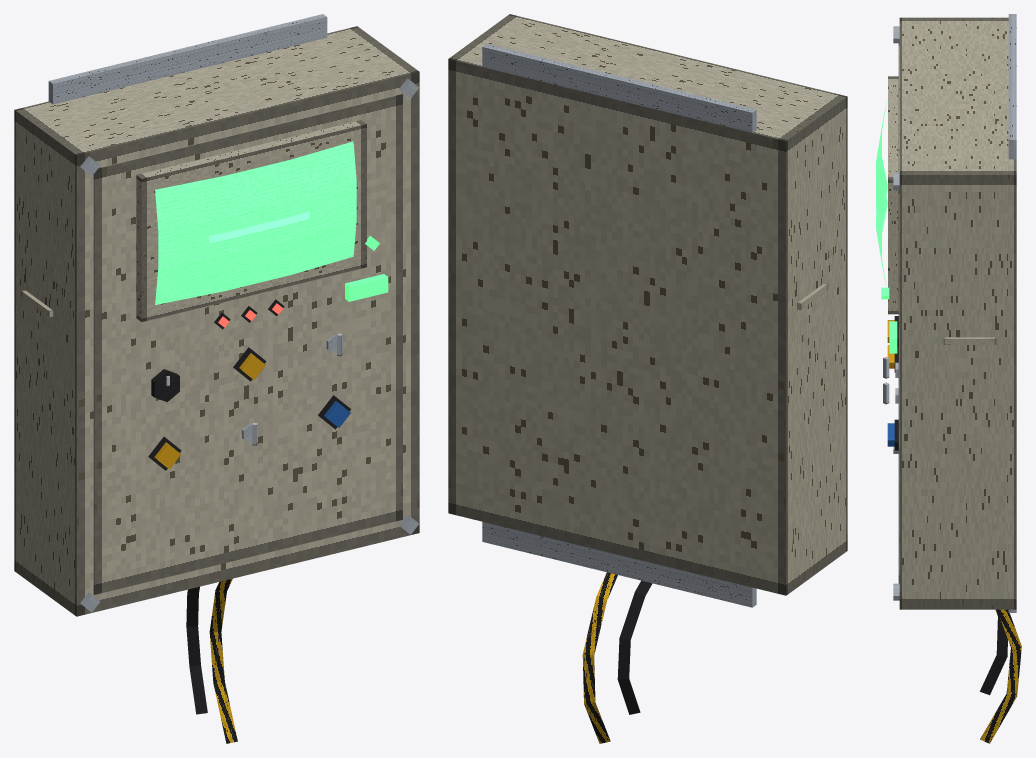
The model's file is electrical_panel_habitation_worn.glb.
3 renders of one model, left to right at view 1: azimuth 30°, elevation 25°; view 2: azimuth 150°, elevation 25°; view 3: azimuth 270°, elevation 25°, orthographic. The views are drawn at different scales.
Visible parts, largest first — view 1: electrical_panel_habitation_worn; view 2: electrical_panel_habitation_worn; view 3: electrical_panel_habitation_worn.
Part boxes in pixels (left/top/right/bottom): electrical_panel_habitation_worn: left=14, top=14, right=419, bottom=743; electrical_panel_habitation_worn: left=448, top=14, right=847, bottom=743; electrical_panel_habitation_worn: left=876, top=14, right=1021, bottom=743.
Size of the model in its own units: 0.716 by 1.35 by 0.2739.
Materials: 14 (14 with a texture image).
